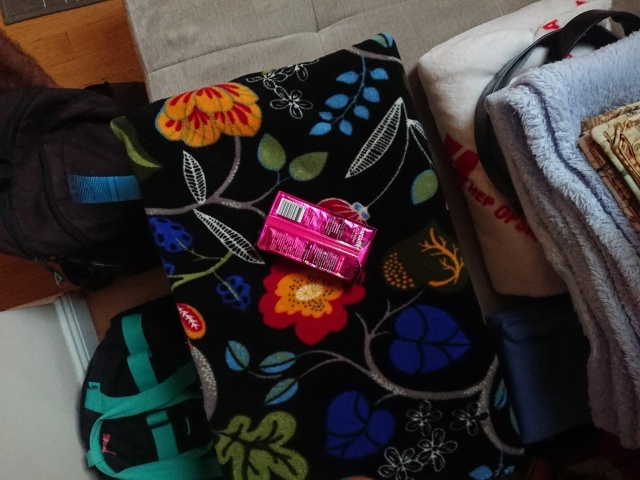Barcaffe Classic Original 225g: (252, 187, 380, 284)
